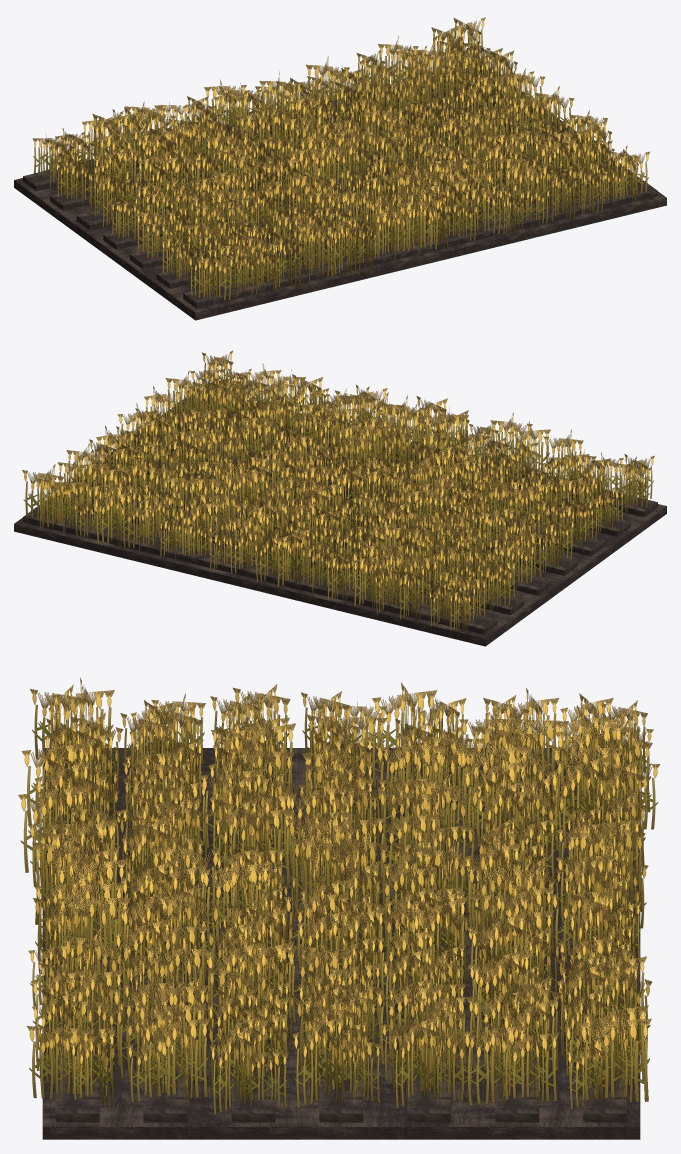
File: prop_crop_field.glb
3 renders of one model, top to bottom at view 1: azimuth 30°, elevation 25°; view 2: azimuth 150°, elevation 25°; view 3: azimuth 270°, elevation 25°, orthographic. The views are drawn at different scales.
Parts seen in each view (by area): view 1: prop_crop_field; view 2: prop_crop_field; view 3: prop_crop_field.
Part boxes in pixels (<box>): prop_crop_field: <box>14,17,666,320</box>; prop_crop_field: <box>14,350,666,646</box>; prop_crop_field: <box>18,677,660,1139</box>.
Bounding box in the file's own units: 9 × 1.09 × 6.56.
2 materials, 2 textured.
